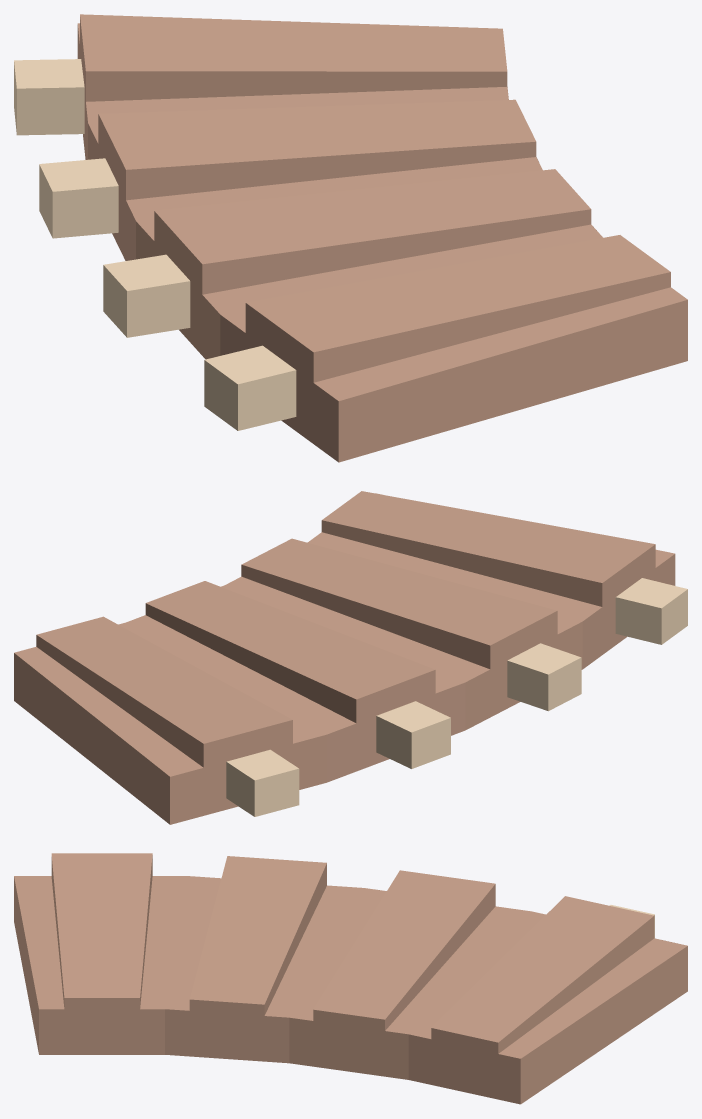
File: meat-ribs.glb
3 renders of one model, top to bottom at view 1: azimuth 30°, elevation 25°; view 2: azimuth 150°, elevation 25°; view 3: azimuth 270°, elevation 25°, orthographic. The views are drawn at different scales.
Visible parts, largest first — view 1: meatRibs; view 2: meatRibs; view 3: meatRibs.
Part boxes in pixels (box(x1,y1,x2,y2)): meatRibs: box(14, 14, 687, 462); meatRibs: box(14, 491, 687, 824); meatRibs: box(14, 853, 687, 1104).
Size of the model in its own units: 0.3834 by 0.0599 by 0.5354.
